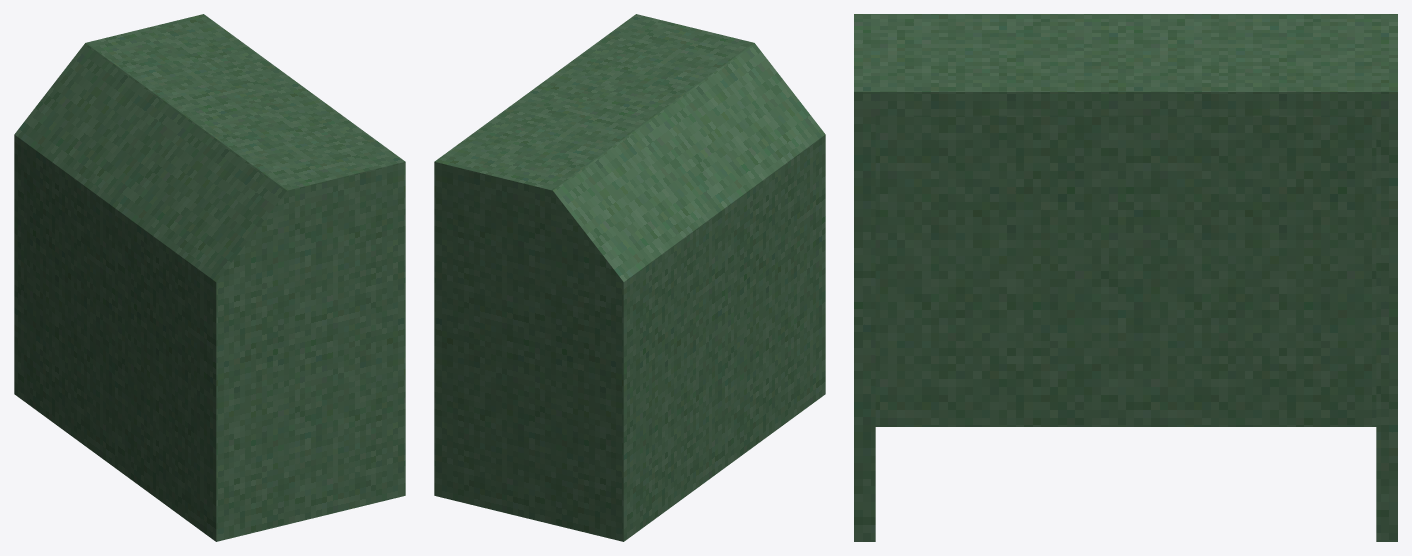
File: BusStop.fbx
3 views of the same model, side by side, from view 1: azimuth 30°, elevation 25°; view 2: azimuth 150°, elevation 25°; view 3: azimuth 270°, elevation 25° (orthographic). The views are drawn at different scales.
Visible parts, largest first — view 1: BusStop; view 2: BusStop; view 3: BusStop.
Part boxes in pixels (box(x1,y1,x2,y2)): BusStop: box(14, 14, 405, 541); BusStop: box(434, 14, 825, 541); BusStop: box(854, 14, 1397, 541).
Bounding box in the file's own units: 1.92 × 3.54 × 3.23.
